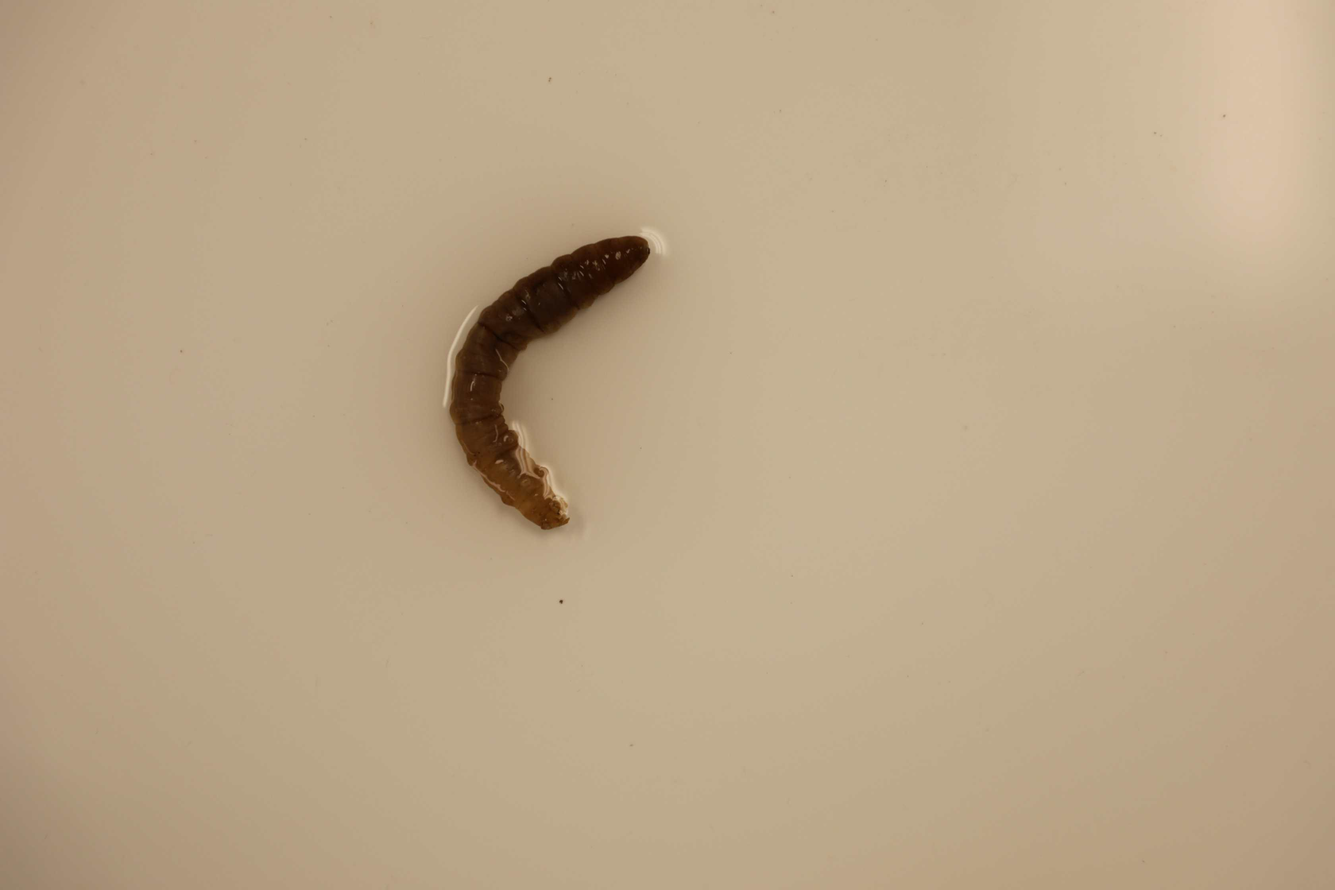Other: (450, 230, 649, 531)
